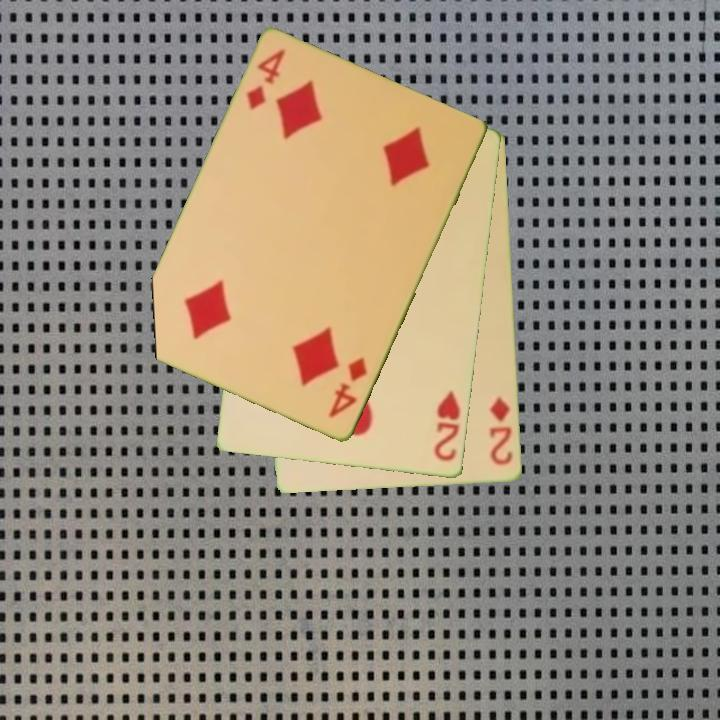2d: (486, 394, 516, 469)
2h: (431, 387, 464, 465)
4d: (325, 354, 371, 422), (243, 46, 289, 114)
